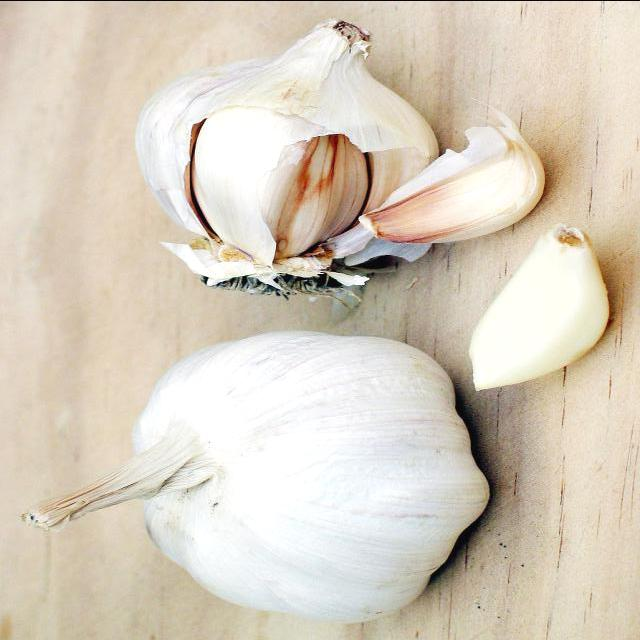garlic: (26, 331, 494, 621), (133, 22, 439, 297), (471, 222, 617, 395), (364, 120, 552, 253)
